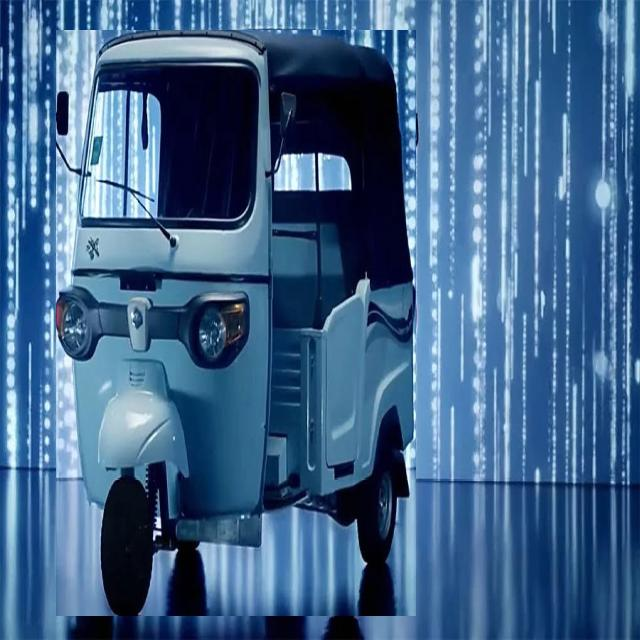autorickshaw: (56, 31, 416, 616)
